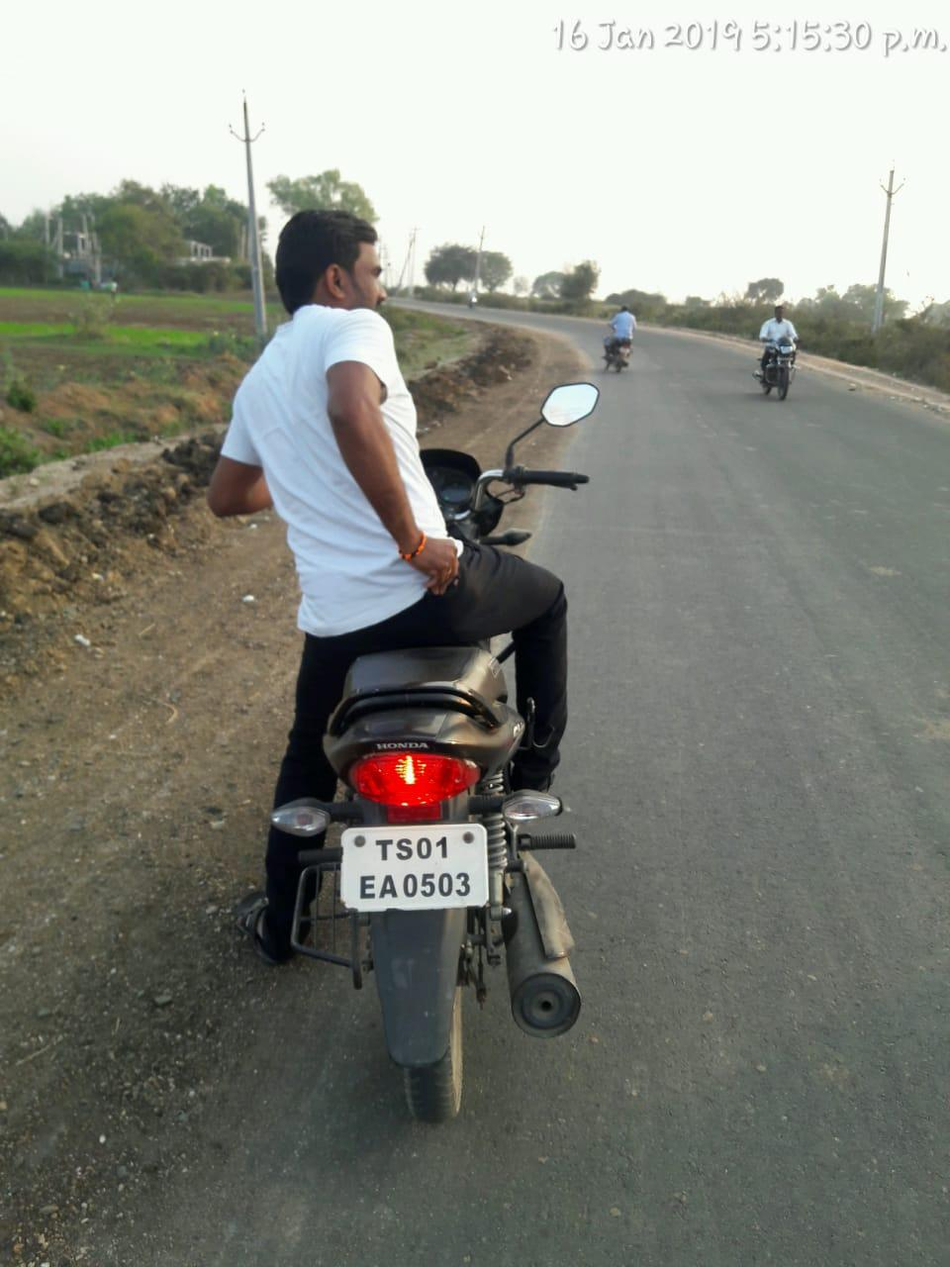plate: (336, 815, 506, 933)
